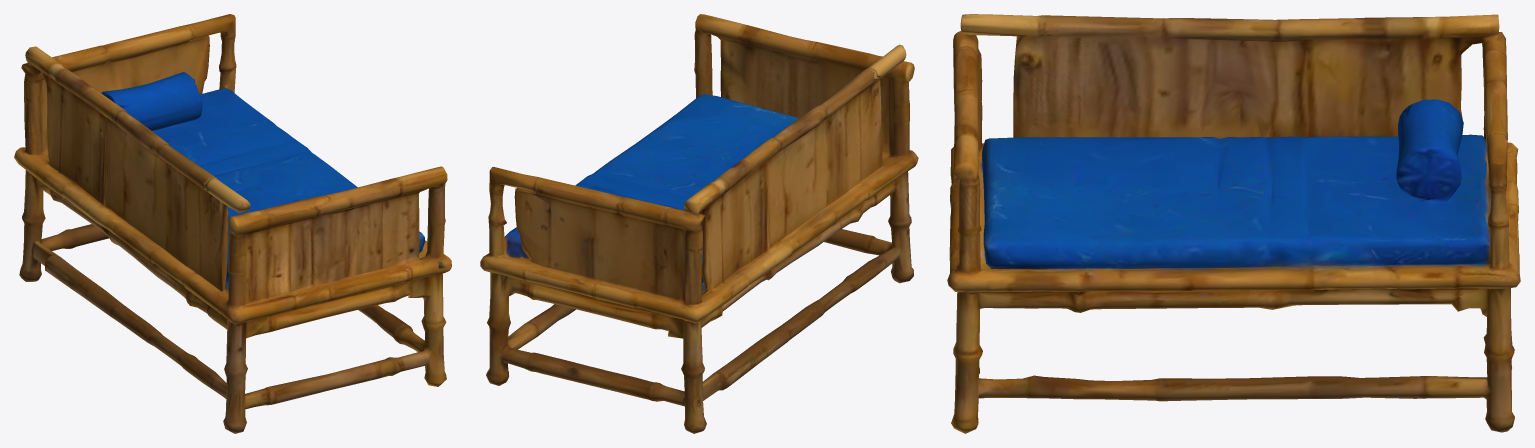
3 views of the same model, side by side, from view 1: azimuth 30°, elevation 25°; view 2: azimuth 150°, elevation 25°; view 3: azimuth 270°, elevation 25° (orthographic). The views are drawn at different scales.
Parts seen in each view (by area): view 1: tripo_node_f76fe858-c825-47dd-8ed5-443f943ca6ed; view 2: tripo_node_f76fe858-c825-47dd-8ed5-443f943ca6ed; view 3: tripo_node_f76fe858-c825-47dd-8ed5-443f943ca6ed.
Part boxes in pixels (x1,y1,x2,y2): tripo_node_f76fe858-c825-47dd-8ed5-443f943ca6ed: (14,14,451,433); tripo_node_f76fe858-c825-47dd-8ed5-443f943ca6ed: (480,14,918,433); tripo_node_f76fe858-c825-47dd-8ed5-443f943ca6ed: (947,14,1520,433).
Size of the model in its own units: 1 by 1 by 1.76.
Materials: 1 (1 with a texture image).
